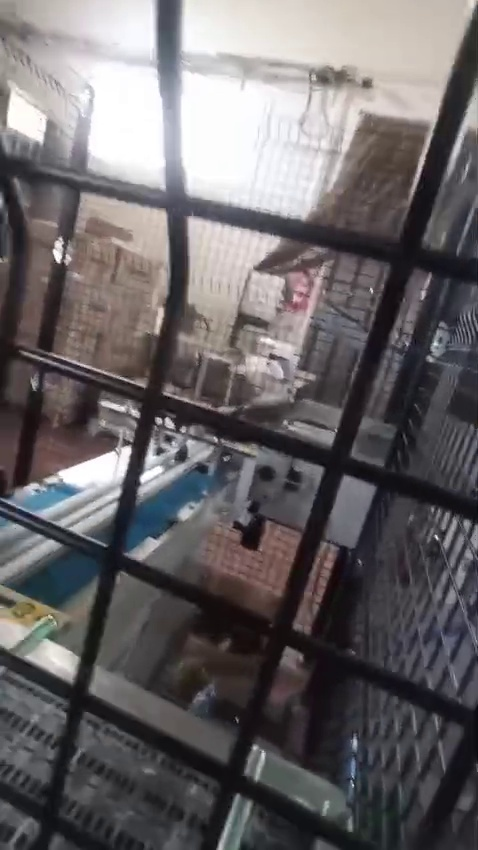savon: (358, 124, 424, 178), (110, 320, 156, 376), (0, 596, 62, 627), (81, 320, 102, 360), (63, 300, 88, 326), (123, 261, 151, 283), (180, 665, 210, 683), (79, 234, 102, 252), (100, 250, 116, 266)
